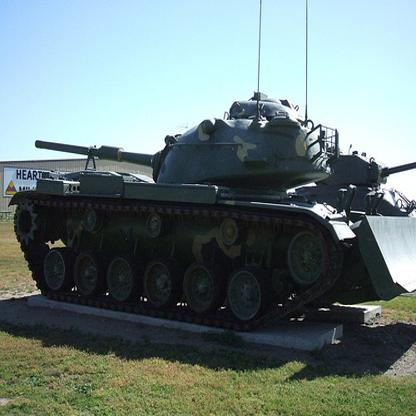Tank: (12, 87, 416, 352)
